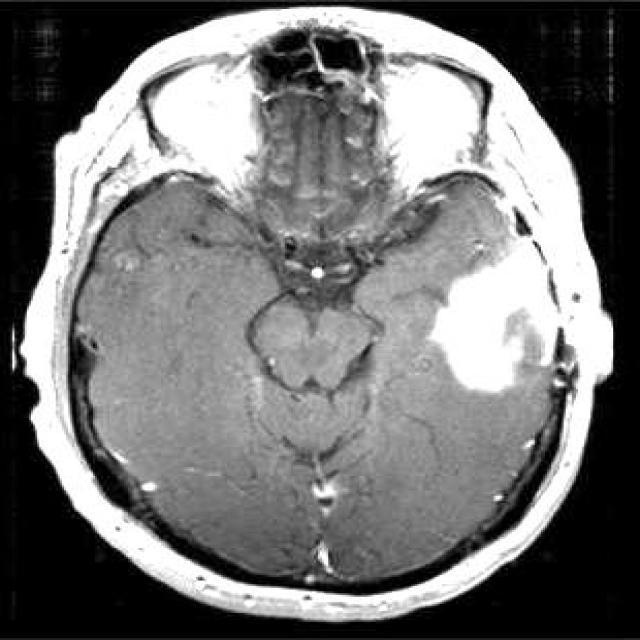tumor: (427, 242, 559, 395), (142, 56, 262, 197), (378, 56, 493, 187)
